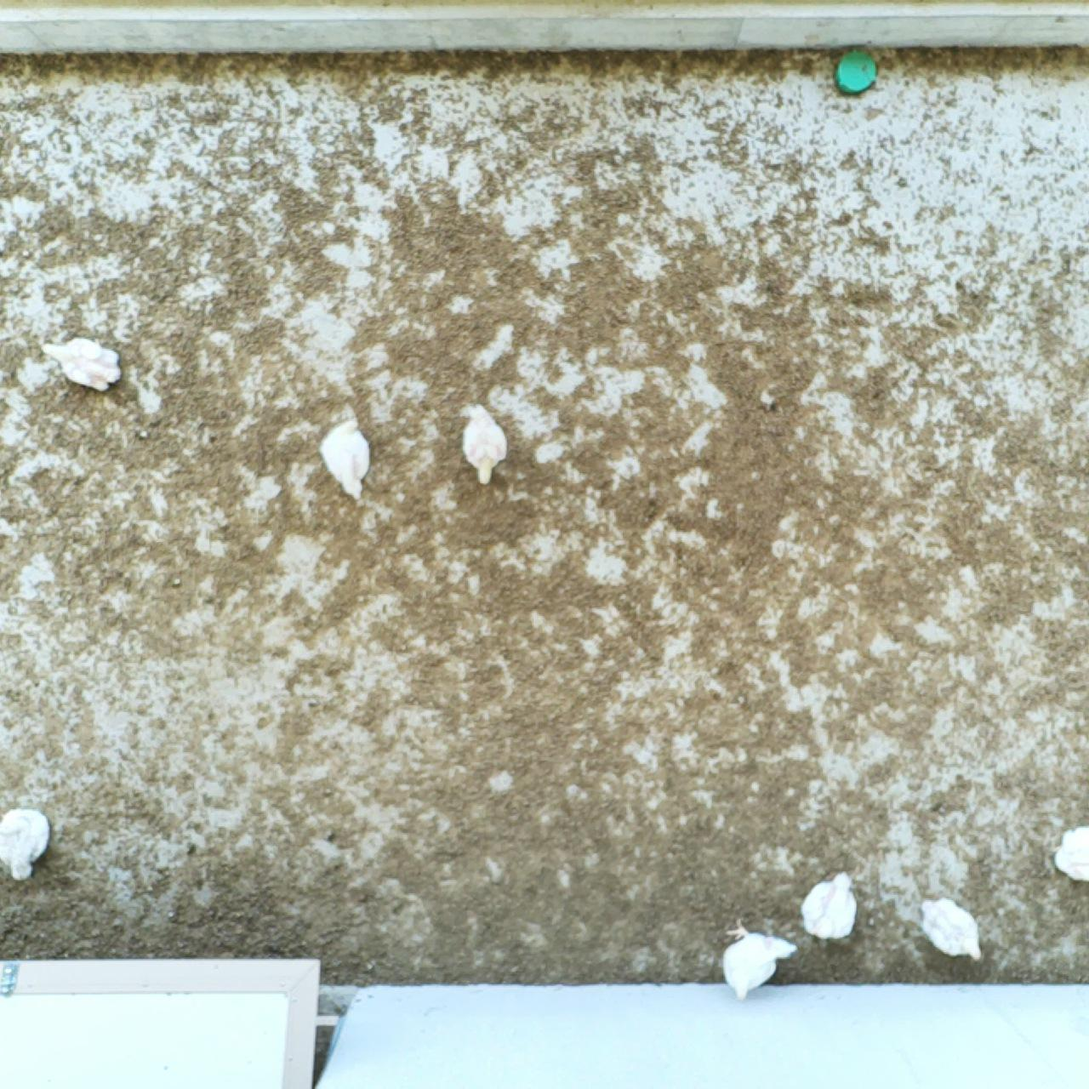chicken: (718, 911, 799, 1002), (35, 327, 125, 396), (315, 415, 378, 506), (793, 868, 866, 944), (454, 400, 510, 488), (915, 895, 985, 963), (0, 801, 53, 886), (1045, 821, 1089, 888)
